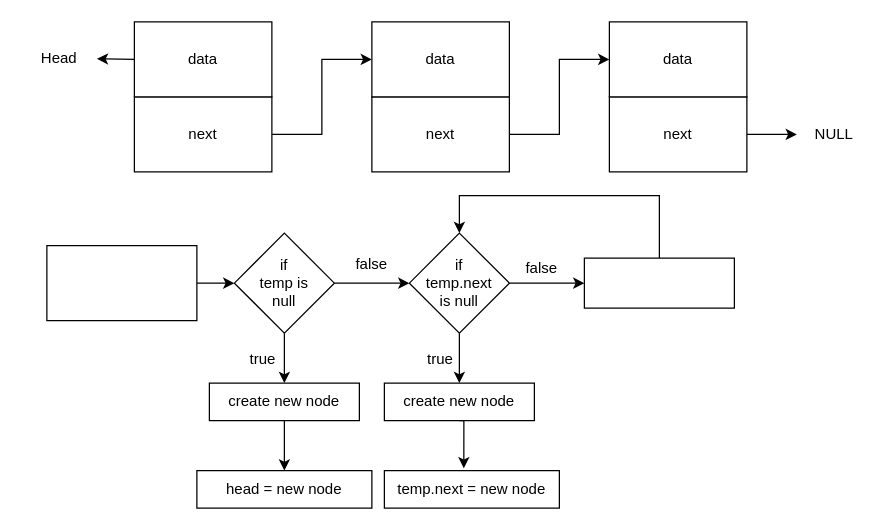
Some shapes in this 893 by 530 pixel diagram are drawn without their labels. The centre of each missing label's shape, as x and y in pixels:
"temp = head" belongs at pixel 121 282.
"temp = temp.next" belongs at pixel 658 282.
